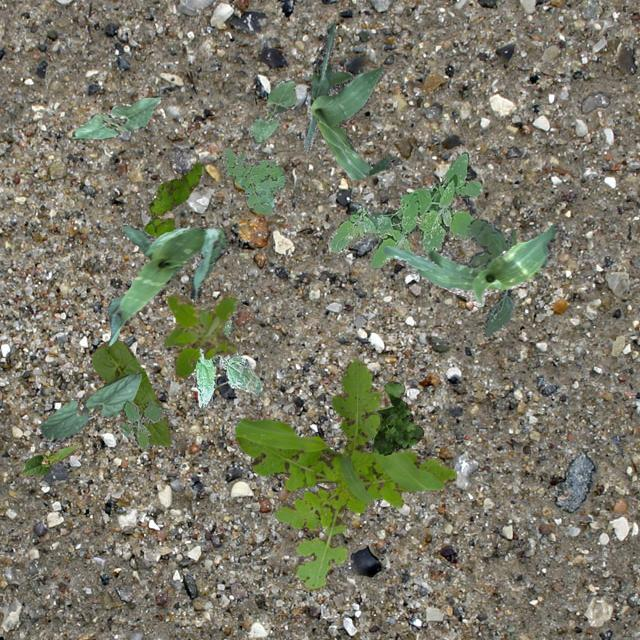crop: (302, 20, 402, 178), (382, 222, 558, 306), (106, 223, 226, 344), (90, 338, 170, 446), (38, 370, 140, 442), (70, 94, 160, 138), (250, 78, 296, 142), (18, 442, 80, 476)
weed: (234, 358, 456, 590), (328, 150, 482, 266), (162, 290, 236, 376), (194, 316, 260, 406), (465, 218, 515, 336), (142, 162, 202, 236), (222, 148, 288, 214), (370, 380, 422, 454), (120, 398, 168, 449)
